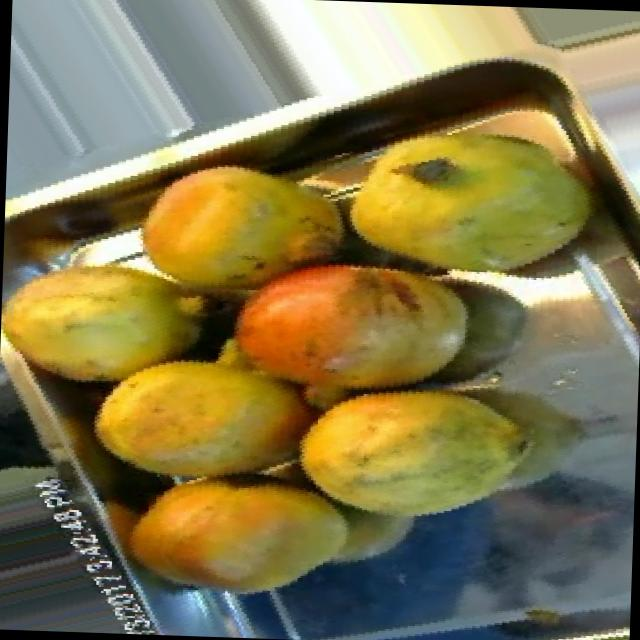fruit: (200, 230, 484, 422), (109, 132, 363, 332), (273, 362, 542, 540), (0, 237, 216, 408)
